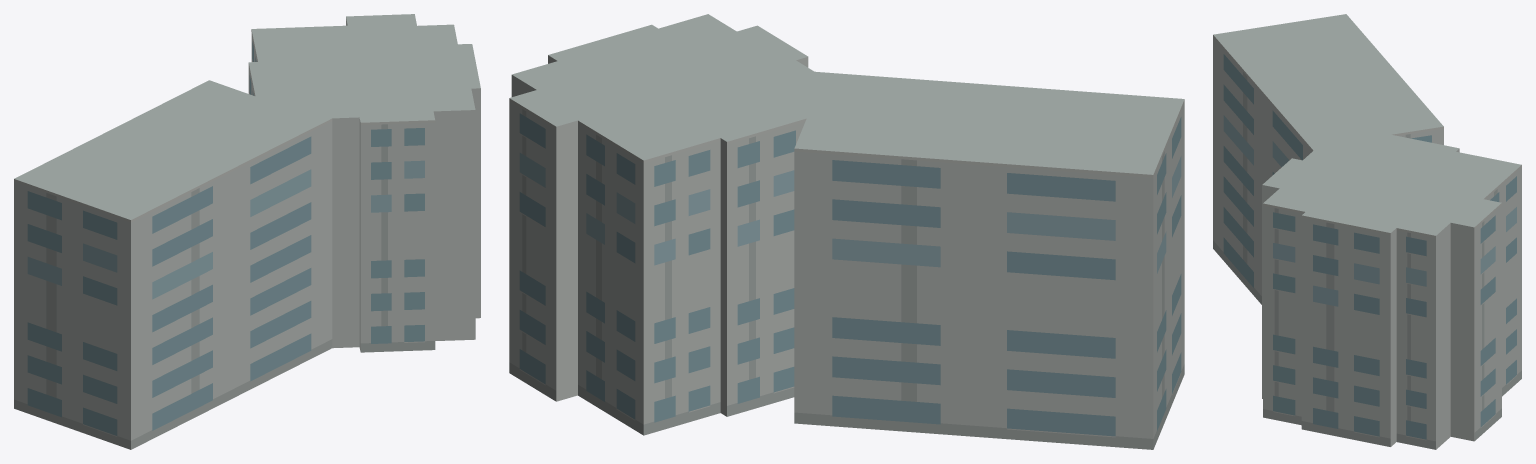
File: residential-f50441cc-e972-4e7f-a5af-0a836e86133b.glb
3 views of the same model, side by side, from view 1: azimuth 30°, elevation 25°; view 2: azimuth 150°, elevation 25°; view 3: azimuth 270°, elevation 25° (orthographic). The views are drawn at different scales.
Parts seen in each view (by area): view 1: residential-f50441cc-e972-4e7f-a5af-0a836e86133b.tmp; view 2: residential-f50441cc-e972-4e7f-a5af-0a836e86133b.tmp; view 3: residential-f50441cc-e972-4e7f-a5af-0a836e86133b.tmp.
Part boxes in pixels (box(x1,y1,x2,y2)): residential-f50441cc-e972-4e7f-a5af-0a836e86133b.tmp: box(14, 14, 480, 449); residential-f50441cc-e972-4e7f-a5af-0a836e86133b.tmp: box(509, 14, 1184, 449); residential-f50441cc-e972-4e7f-a5af-0a836e86133b.tmp: box(1213, 14, 1521, 449).
Size of the model in its own units: 51.14 by 23 by 30.08.
